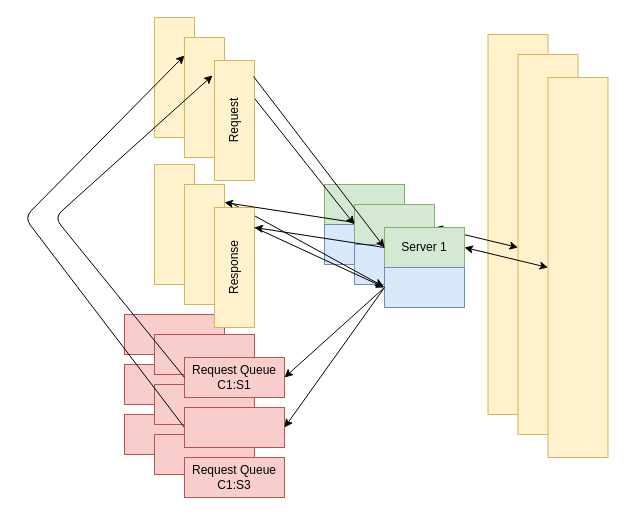
Some shapes in this 626 by 515 pixel diagram are drawn without their labels. The centre of each missing label's shape, as x and y in pixels:
"Client 1" goes at (424,287).
"Delegated Data Structure" goes at (577,267).
"Request Queue C1:S2" goes at (234,427).
